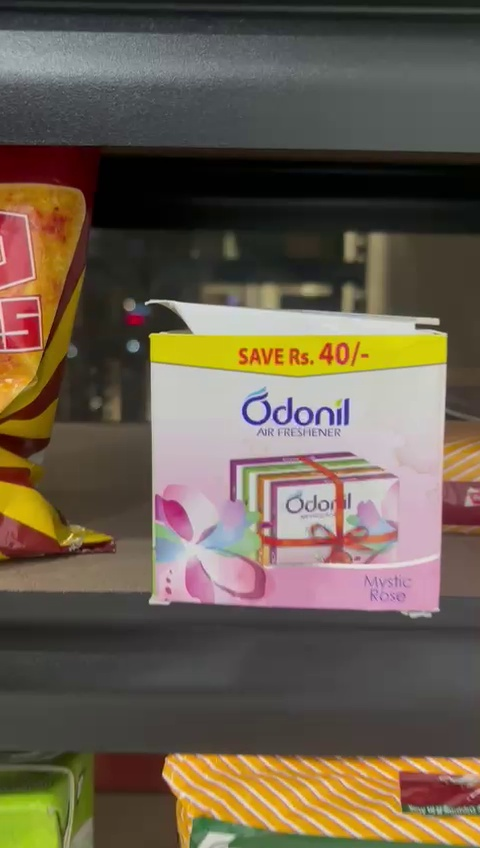Odonil: (148, 300, 442, 614)
